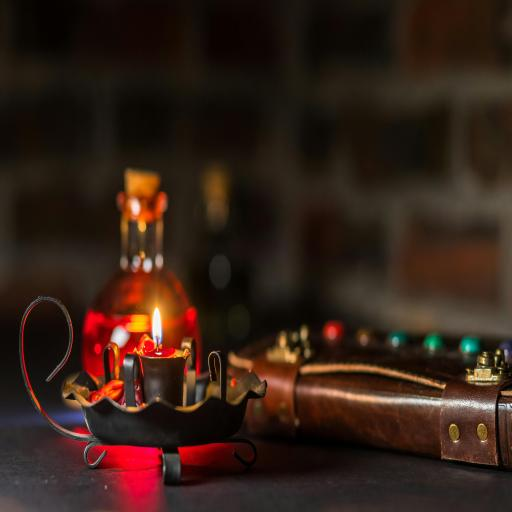candlelight: (140, 258, 178, 445)
